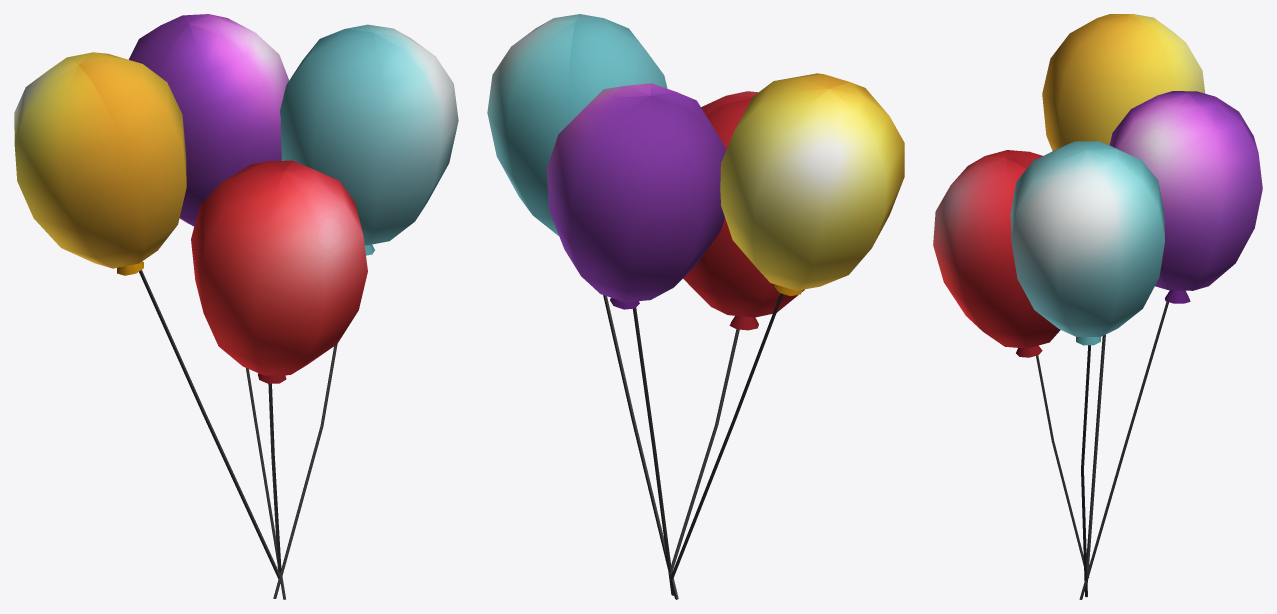
File: balloons.fbx
3 renders of one model, left to right at view 1: azimuth 30°, elevation 25°; view 2: azimuth 150°, elevation 25°; view 3: azimuth 270°, elevation 25°, orthographic. The views are drawn at different scales.
Visible parts, largest first — view 1: balloons; view 2: balloons; view 3: balloons.
Boxes of the visible parts, bbox=[...] form: balloons: bbox=[14, 14, 458, 599]; balloons: bbox=[487, 14, 904, 599]; balloons: bbox=[933, 14, 1262, 599].
Size of the model in its own units: 5.03 by 6.73 by 3.97.
Materials: 1 (1 with a texture image).
